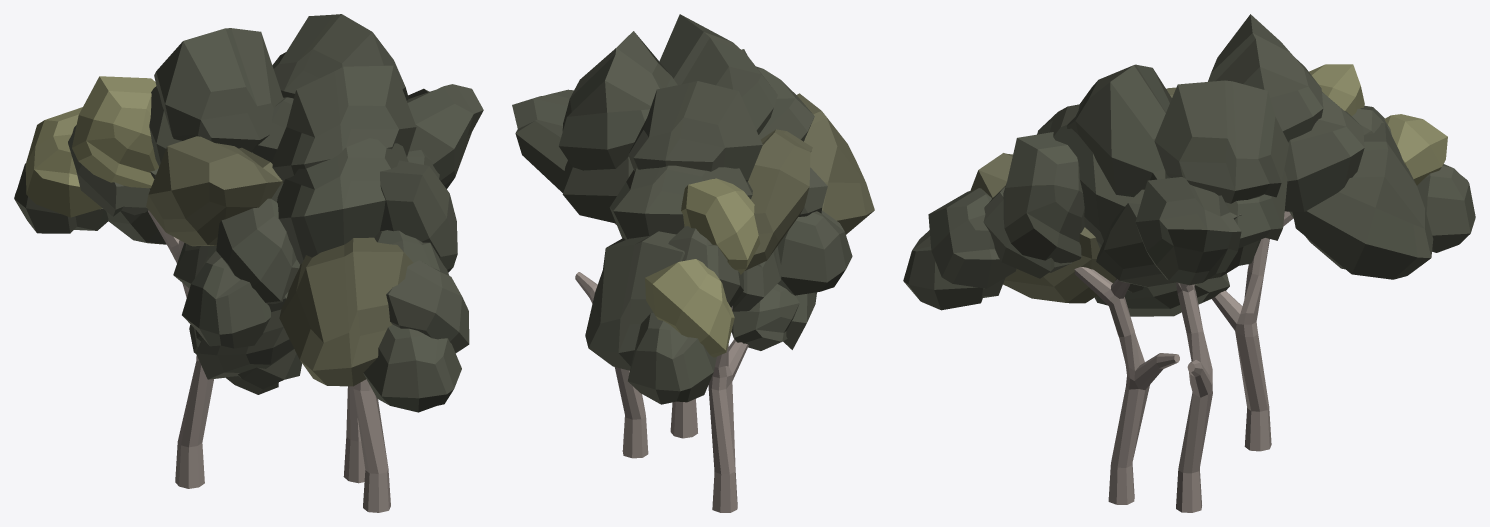
File: BoardWalkTreeGroup.fbx
The picture shows the model from 3 angles, left to right: view 1: azimuth 30°, elevation 25°; view 2: azimuth 150°, elevation 25°; view 3: azimuth 270°, elevation 25°; orthographic projection. The views are drawn at different scales.
Visible parts, largest first — view 1: TreeGroup1; view 2: TreeGroup1; view 3: TreeGroup1.
Boxes of the visible parts, x1,y1,x2,y2 form: TreeGroup1: [14, 14, 483, 512]; TreeGroup1: [512, 14, 874, 512]; TreeGroup1: [903, 14, 1475, 512].
Bounding box in the file's own units: 9.9 × 12.57 × 15.25.
